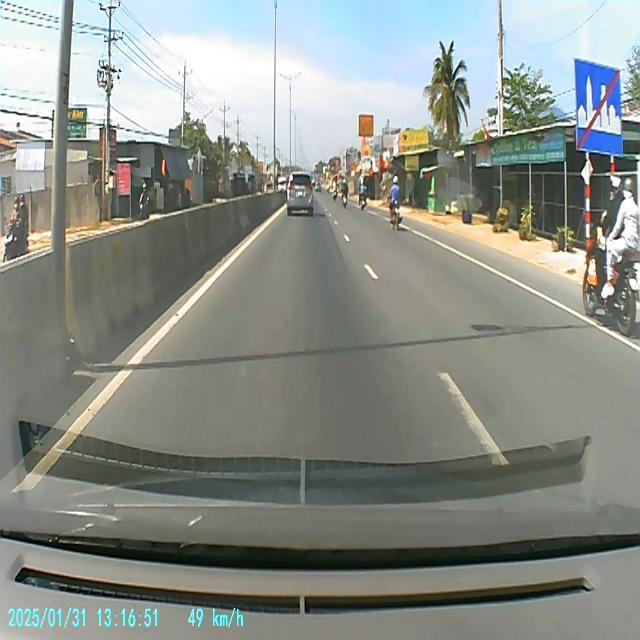421-ket-thuc-khu-dong-dan-cu: (574, 56, 624, 157)
